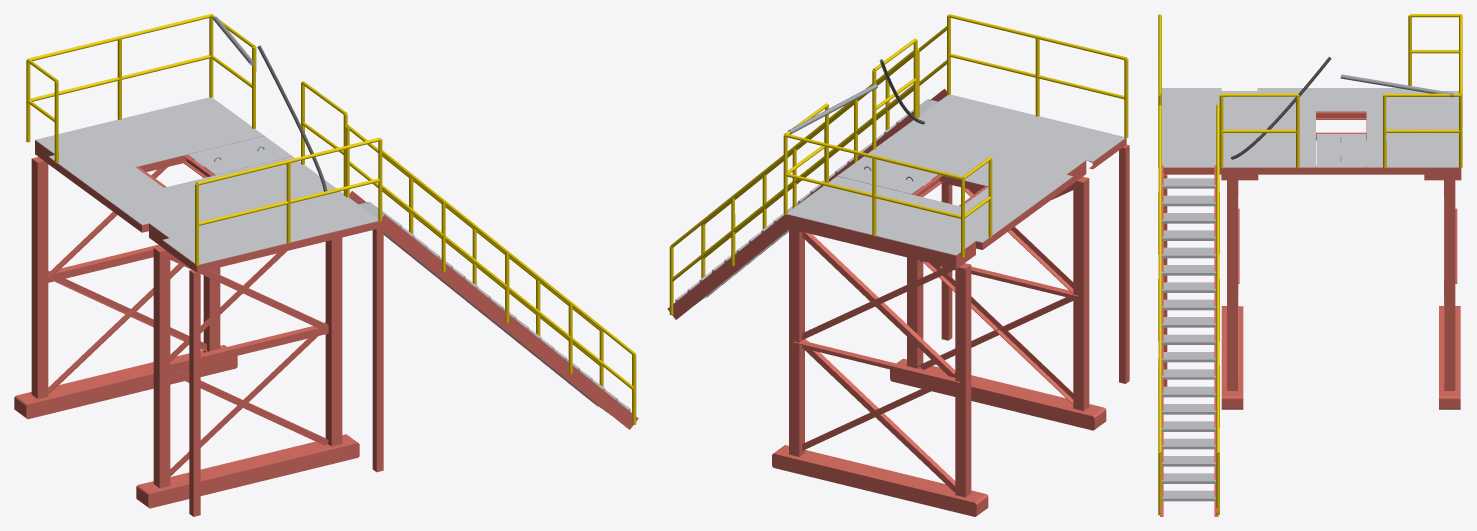
File: sk575_piso.glb
The picture shows the model from 3 angles, left to right: view 1: azimuth 30°, elevation 25°; view 2: azimuth 150°, elevation 25°; view 3: azimuth 270°, elevation 25°; orthographic projection. The views are drawn at different scales.
Visible parts, largest first — view 1: sk575_piso_rojo, sk575_piso_acero, sk575_piso_amarillo, sk575_piso_grating; view 2: sk575_piso_rojo, sk575_piso_acero, sk575_piso_amarillo, sk575_piso_grating, sk575_piso_acero_oscuro; view 3: sk575_piso_acero, sk575_piso_rojo, sk575_piso_grating, sk575_piso_amarillo, sk575_piso_acero_oscuro, sk575_piso_goma.
Boxes of the visible parts, left/top/right/bottom form: sk575_piso_rojo: left=14, top=140, right=638, bottom=516; sk575_piso_acero: left=35, top=97, right=378, bottom=264; sk575_piso_amarillo: left=26, top=14, right=636, bottom=424; sk575_piso_grating: left=358, top=201, right=630, bottom=415; sk575_piso_rojo: left=667, top=88, right=1129, bottom=516; sk575_piso_acero: left=787, top=94, right=1125, bottom=255; sk575_piso_amarillo: left=669, top=14, right=1128, bottom=315; sk575_piso_grating: left=675, top=99, right=938, bottom=306; sk575_piso_acero_oscuro: left=788, top=84, right=913, bottom=181; sk575_piso_acero: left=1162, top=88, right=1458, bottom=167; sk575_piso_rojo: left=1160, top=88, right=1461, bottom=516; sk575_piso_grating: left=1161, top=178, right=1216, bottom=501; sk575_piso_amarillo: left=1158, top=14, right=1462, bottom=515; sk575_piso_acero_oscuro: left=1340, top=74, right=1453, bottom=160; sk575_piso_goma: left=1231, top=57, right=1331, bottom=159.
Bounding box in the file's own units: 6.47 × 5.18 × 4.2.
